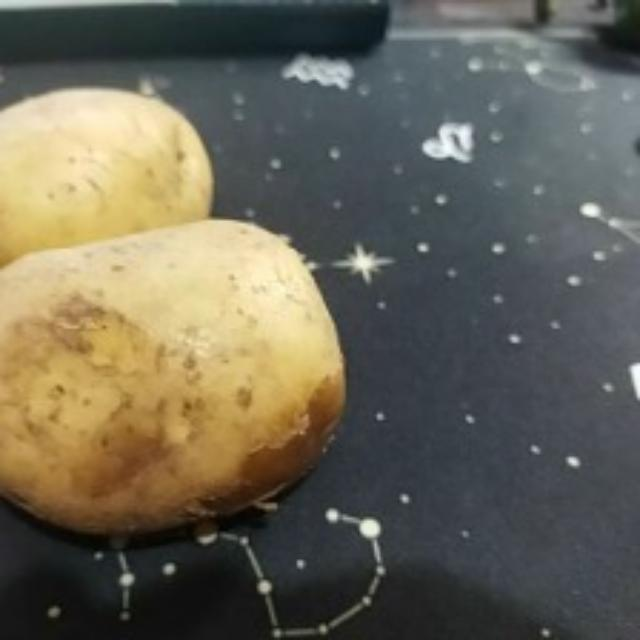Damaged potato: (0, 220, 348, 552)
Potato: (4, 84, 220, 300)
